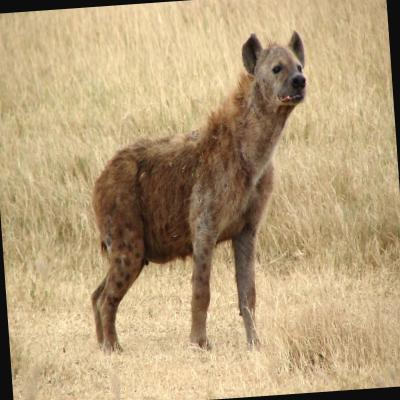hyenas: (52, 23, 349, 400)
